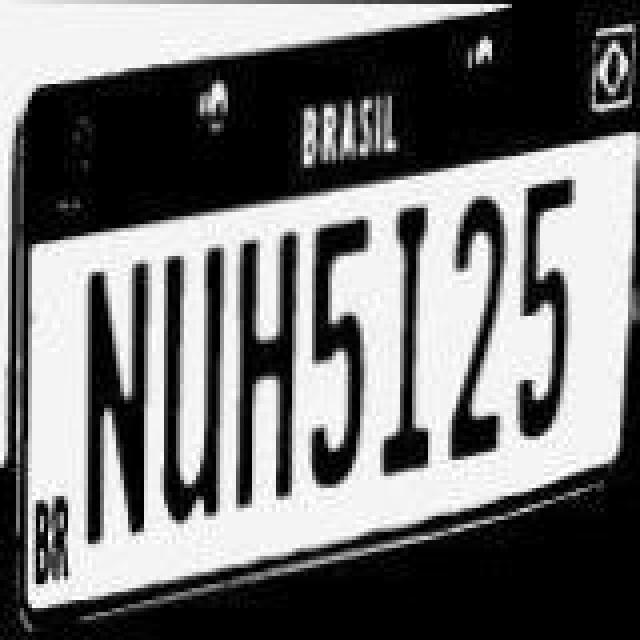2: (442, 176, 514, 460)
5: (308, 200, 376, 484), (518, 166, 582, 434)
H: (234, 218, 306, 506)
I: (378, 186, 442, 474)
N: (86, 250, 158, 558)
U: (158, 232, 230, 532)
